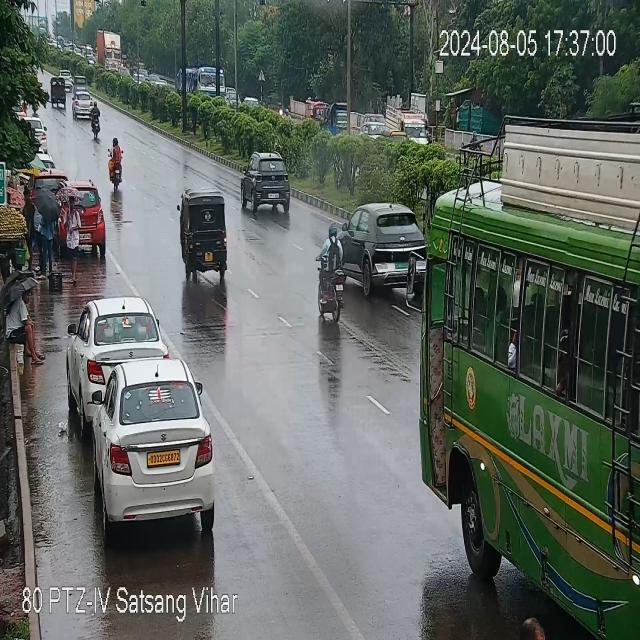2-wheelers: (312, 227, 348, 323), (104, 137, 127, 190), (89, 98, 101, 140)
auto: (175, 187, 228, 281), (51, 74, 69, 110)
bus: (415, 106, 640, 510)
car: (91, 359, 218, 528), (67, 295, 162, 409), (336, 204, 423, 297), (61, 178, 106, 255), (238, 151, 293, 214), (70, 90, 96, 120)
pedestrian: (4, 284, 47, 367), (57, 182, 83, 284), (34, 187, 56, 276), (22, 184, 34, 269)
truck: (175, 67, 226, 102), (95, 25, 123, 74)
